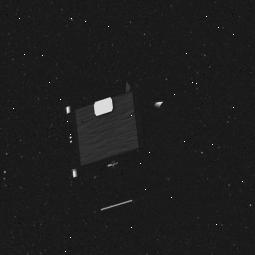proba_3_csc: (53, 78, 176, 215)
